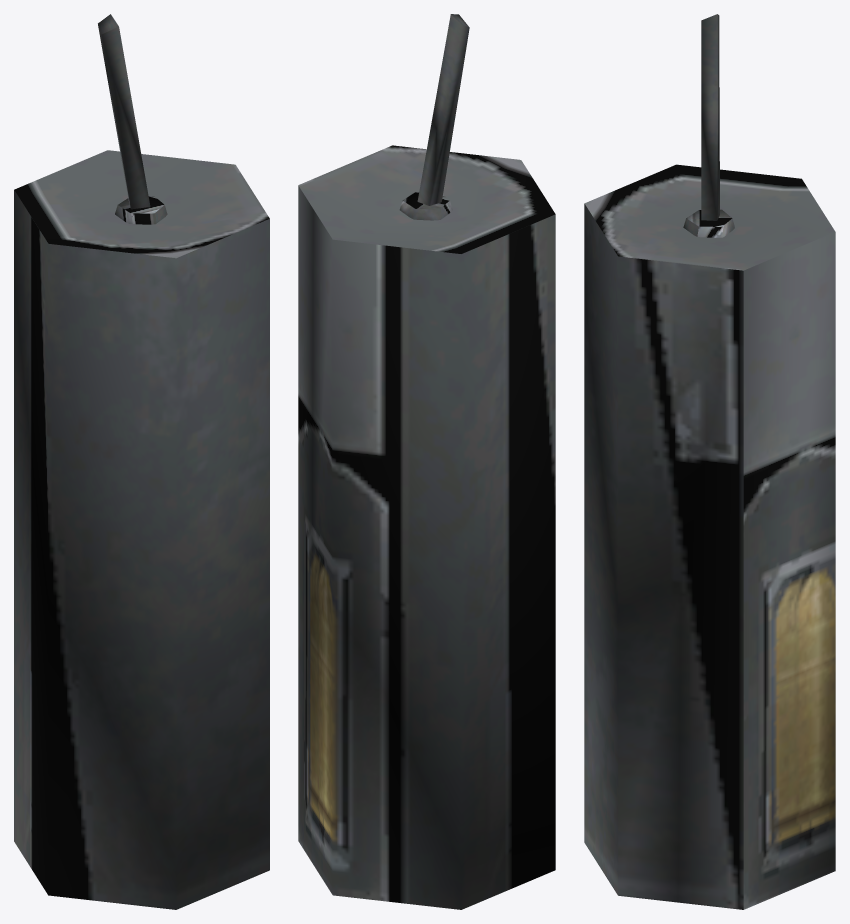
File: Pistol_sl_lod2_Magazine_LOD_(000944).glb
3 views of the same model, side by side, from view 1: azimuth 30°, elevation 25°; view 2: azimuth 150°, elevation 25°; view 3: azimuth 270°, elevation 25° (orthographic). The views are drawn at different scales.
Parts seen in each view (by area): view 1: sl_lod2; view 2: sl_lod2; view 3: sl_lod2.
Boxes of the visible parts, x1,y1,x2,y2 form: sl_lod2: [14, 14, 269, 909]; sl_lod2: [298, 14, 555, 909]; sl_lod2: [584, 14, 835, 909].
Size of the model in its own units: 0.0623 by 0.2272 by 0.0623.
1 material, 1 textured.
